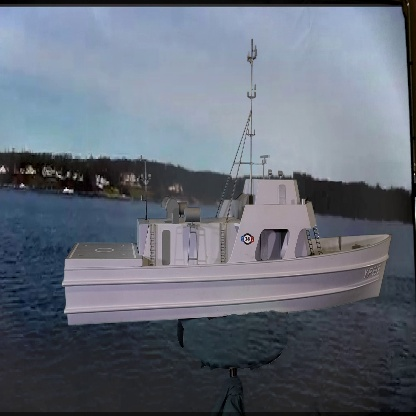YP689: (62, 38, 391, 328)
